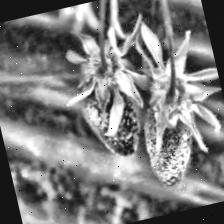Gray Mold: (114, 7, 224, 193), (52, 15, 170, 168)
